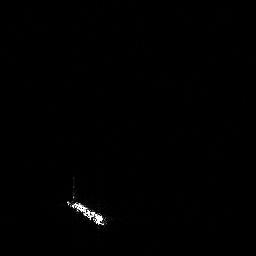ship: (66, 200, 105, 223)
